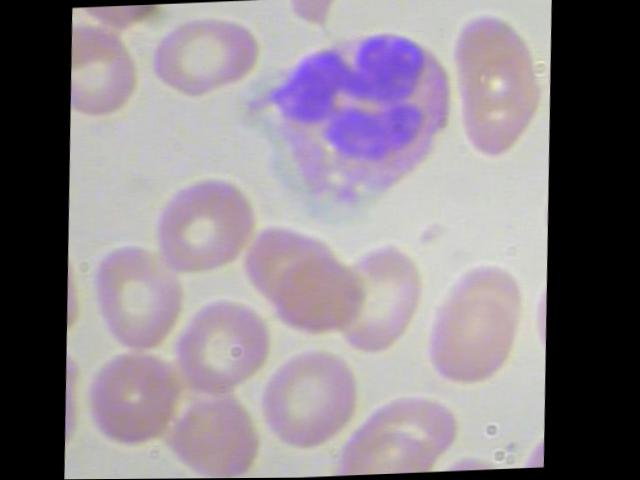Red Blood Cells: (441, 6, 550, 169), (76, 233, 189, 365), (413, 287, 526, 395), (260, 247, 373, 355), (141, 2, 263, 102), (142, 173, 264, 273), (254, 347, 366, 454), (84, 348, 181, 452), (175, 298, 272, 401), (166, 388, 265, 478)
White Blood Cells: (232, 28, 462, 227)
